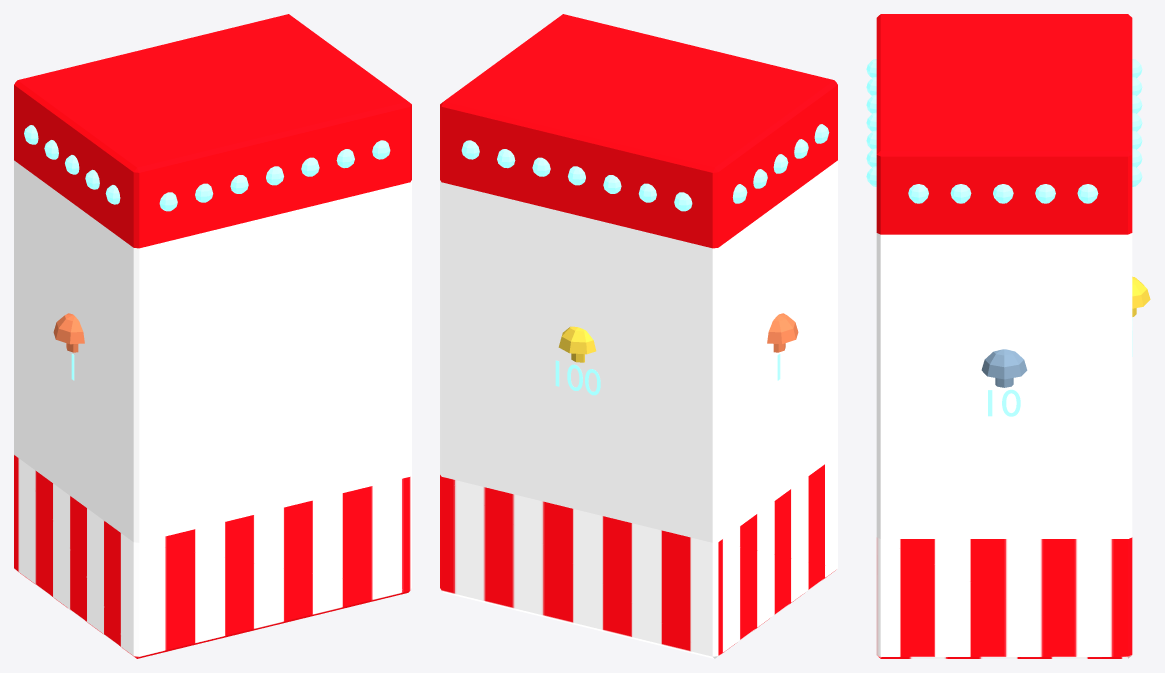
Rendered from machineBase.glb.
3 renders of one model, left to right at view 1: azimuth 30°, elevation 25°; view 2: azimuth 150°, elevation 25°; view 3: azimuth 270°, elevation 25°, orthographic. The views are drawn at different scales.
Visible parts, largest first — view 1: Machine, GlowingBallsFront, GlowingBallsLeft, Green mushroom.011; view 2: Machine, GlowingBallsBack, GlowingBallsLeft, Green mushroom.009, Green mushroom.011, Text; view 3: Machine, GlowingBallsRight, Green mushroom.010, GlowingBallsFront, GlowingBallsBack, Green mushroom.009.
Boxes of the visible parts, x1=… form: Machine: x1=14, y1=14, x2=411, y2=658; GlowingBallsFront: x1=159, y1=140, x2=390, y2=211; GlowingBallsLeft: x1=24, y1=125, x2=120, y2=204; Green mushroom.011: x1=53, y1=313, x2=84, y2=352; Machine: x1=440, y1=14, x2=837, y2=658; GlowingBallsBack: x1=461, y1=140, x2=692, y2=211; GlowingBallsLeft: x1=732, y1=124, x2=829, y2=203; Green mushroom.009: x1=558, y1=326, x2=596, y2=362; Green mushroom.011: x1=767, y1=313, x2=798, y2=352; Text: x1=555, y1=360, x2=600, y2=395; Machine: x1=876, y1=14, x2=1132, y2=658; GlowingBallsRight: x1=908, y1=184, x2=1098, y2=203; Green mushroom.010: x1=981, y1=349, x2=1027, y2=387; GlowingBallsFront: x1=866, y1=59, x2=876, y2=186; GlowingBallsBack: x1=1132, y1=59, x2=1142, y2=186; Green mushroom.009: x1=1132, y1=276, x2=1150, y2=316.
Size of what is drawn, in the model's own units: 8.84 by 13.21 by 6.69.
7 materials, 1 textured.
